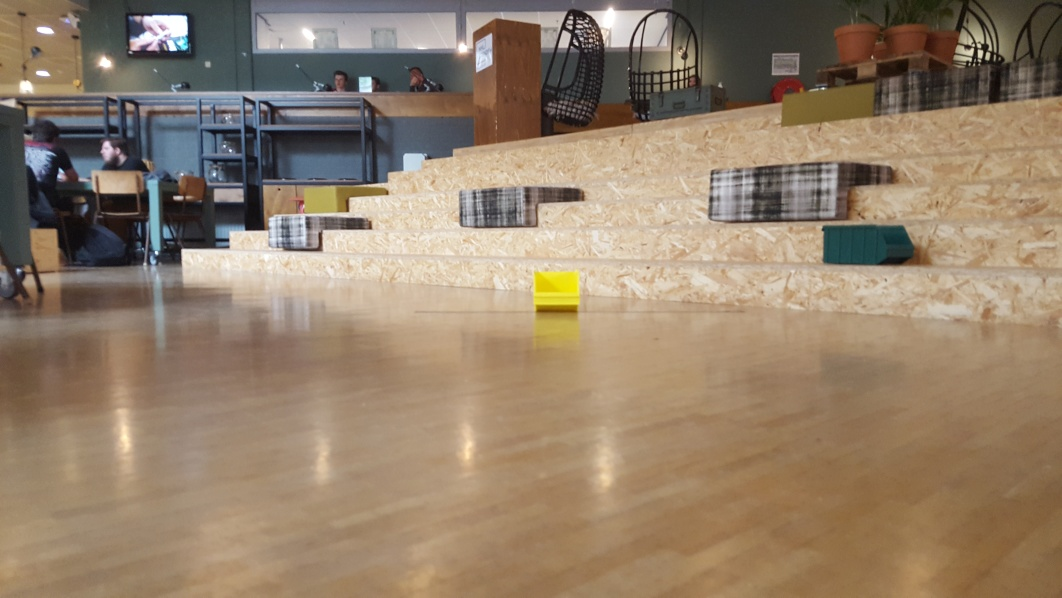tray: (817, 224, 921, 265), (529, 265, 580, 314)
